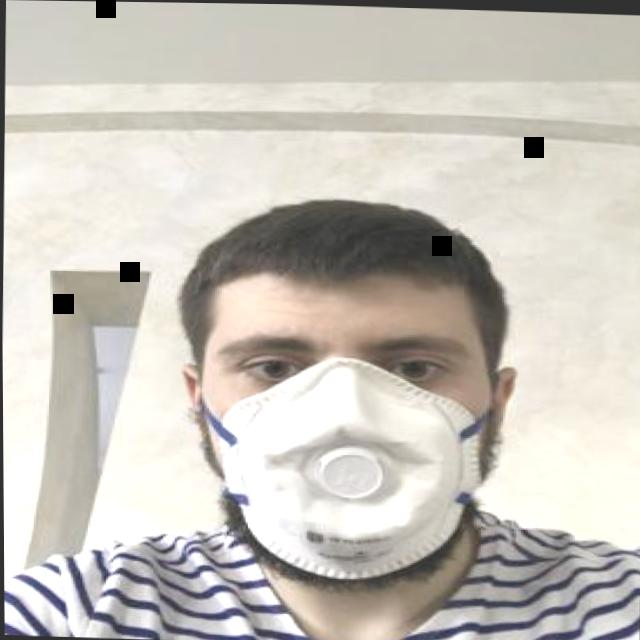Mask: (190, 285, 499, 591)
